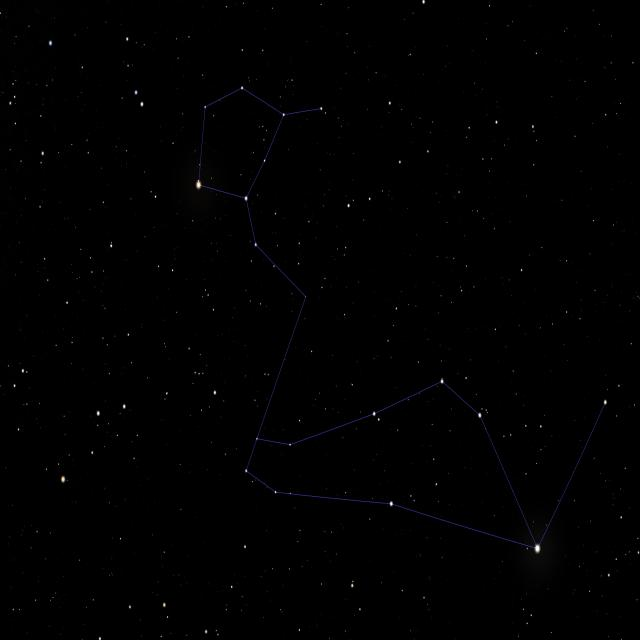Cetus: (186, 65, 618, 570)
